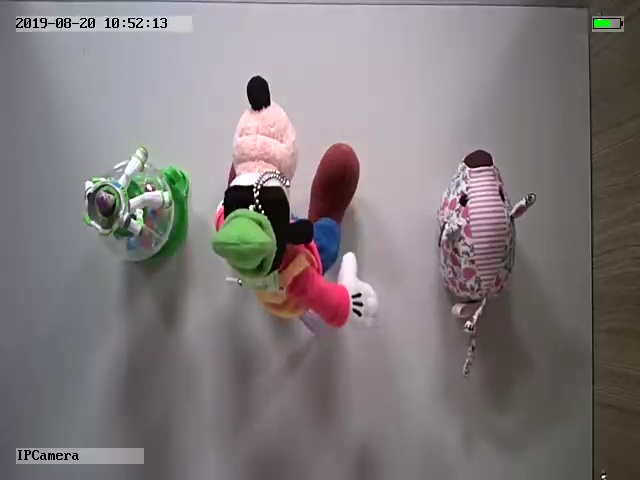buzz: (82, 144, 192, 269)
goofy: (211, 74, 379, 333)
pig: (436, 148, 537, 378)
